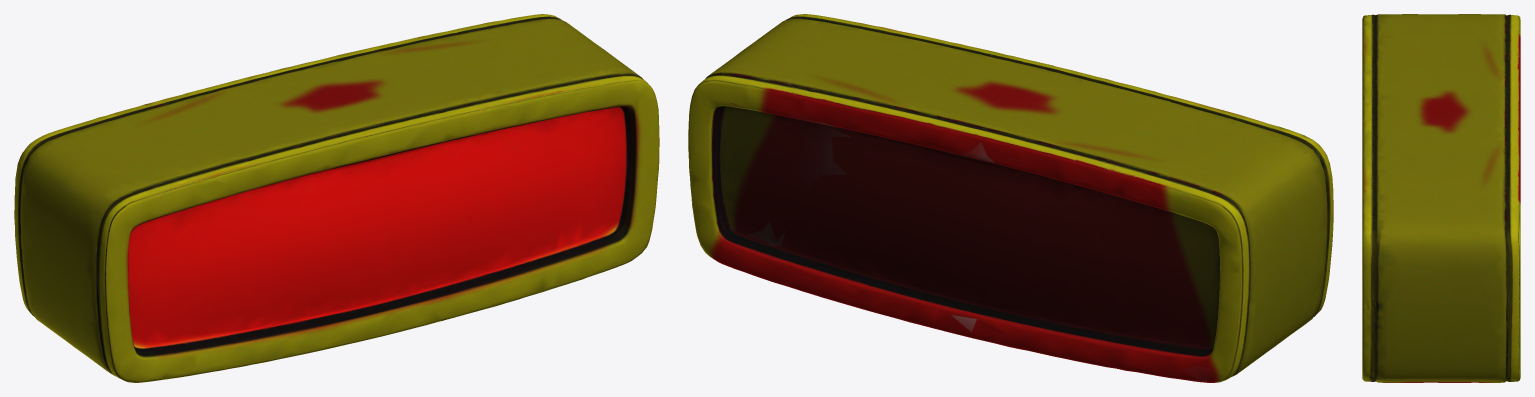
File: VR-Red.glb
The picture shows the model from 3 angles, left to right: view 1: azimuth 30°, elevation 25°; view 2: azimuth 150°, elevation 25°; view 3: azimuth 270°, elevation 25°; orthographic projection. The views are drawn at different scales.
Parts seen in each view (by area): view 1: Mesh_0.006; view 2: Mesh_0.006; view 3: Mesh_0.006.
Boxes of the visible parts, <box> form: Mesh_0.006: <box>14,14,659,382</box>; Mesh_0.006: <box>688,14,1333,382</box>; Mesh_0.006: <box>1362,14,1520,382</box>.
Size of the model in its own units: 0.4724 by 0.1683 by 0.1351.
Materials: 1 (1 with a texture image).
